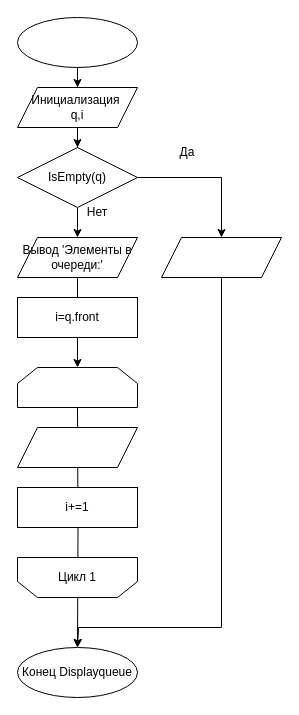
The diagram is 299 pixels wide and 715 high, and some of its shapes have lost their labels. The shapes that lost their labels are listed below. From the top down, each one's centre as x and y in pixels, then its label:
point 77,42: Начало Displayqueue
point 221,257: Вывод "очередь пуста"
point 77,387: Цикл 1 i>q.rear
point 77,447: Вывод "q.data[i], ' '"
